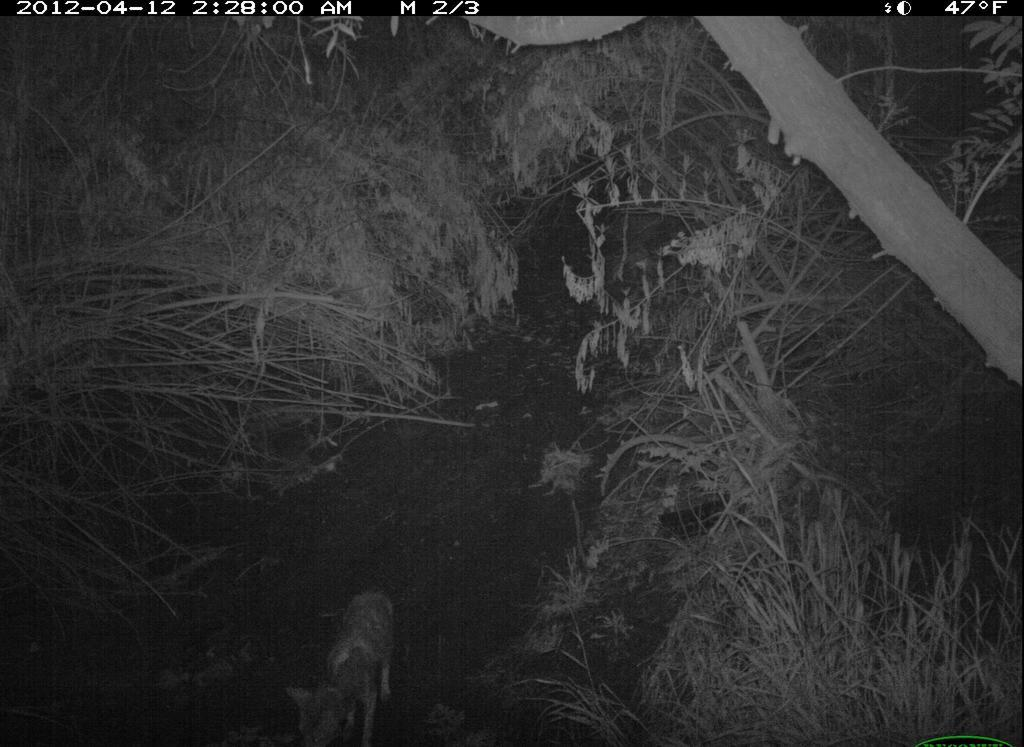coyote: (265, 541, 445, 728)
